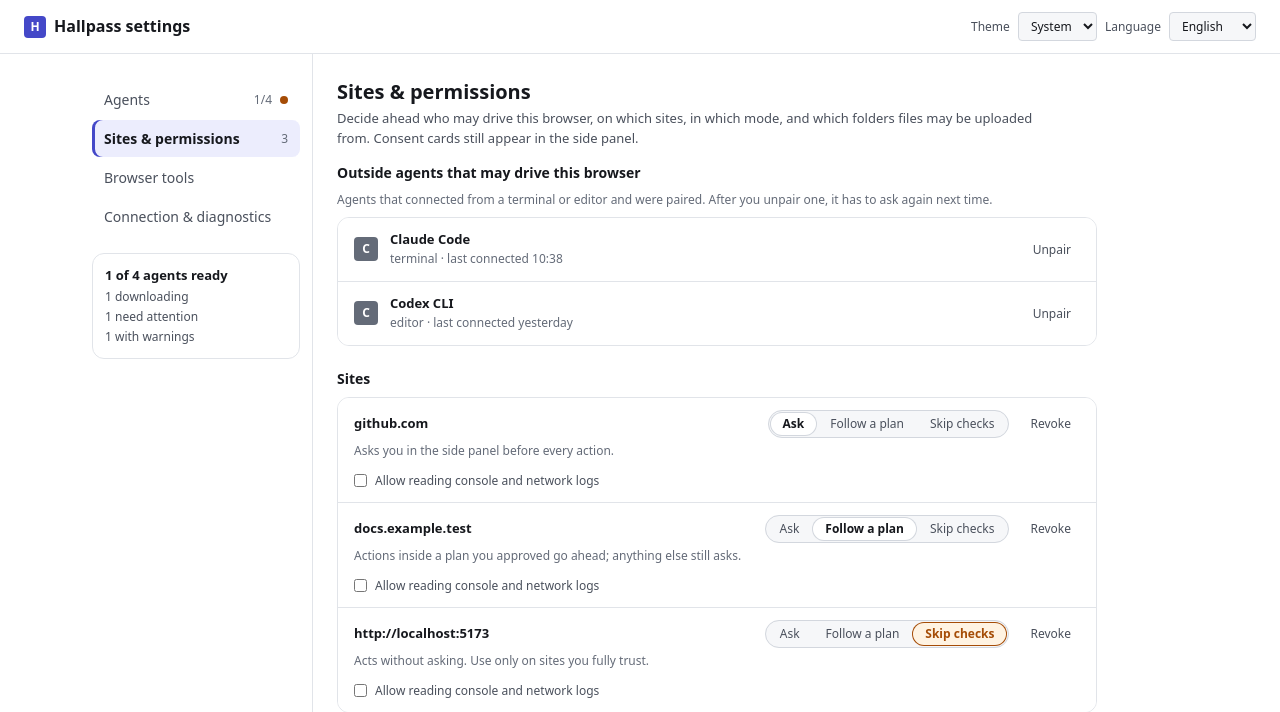
T776 revoking a site (FR-385) › asks first, and Keep sends nothing
The width and height of the screenshot is (1280, 712).
Click the button "Revoke" in the row of "github.com" at {"x": 1051, "y": 424}, box [1022,410,1080,438]
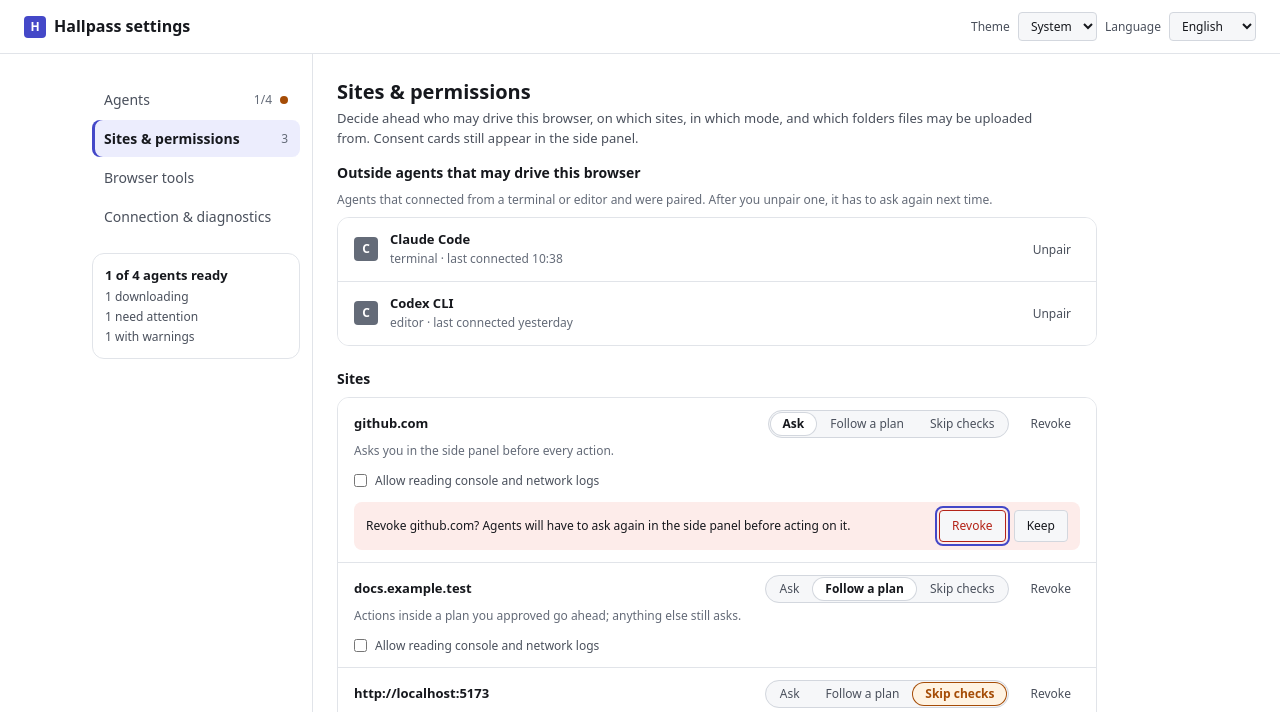
Click the button "Keep" at {"x": 1041, "y": 526}, box [1014,510,1068,542]
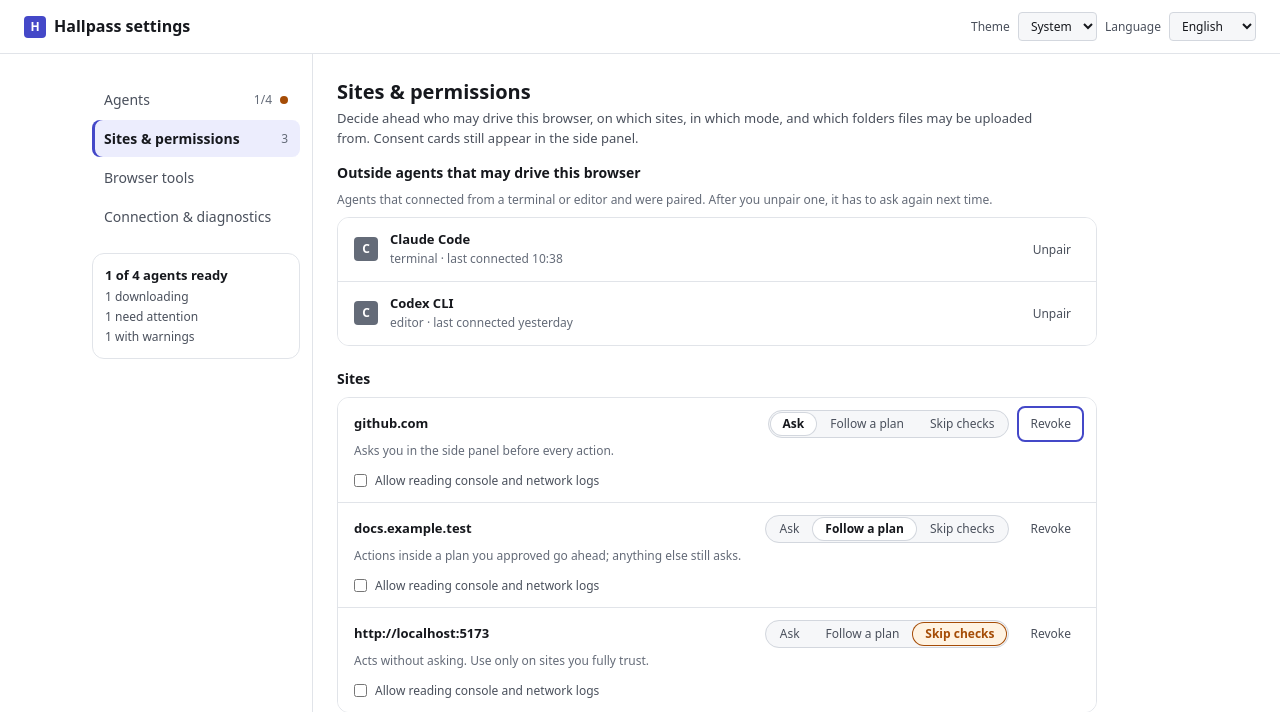
Now the message is gone
